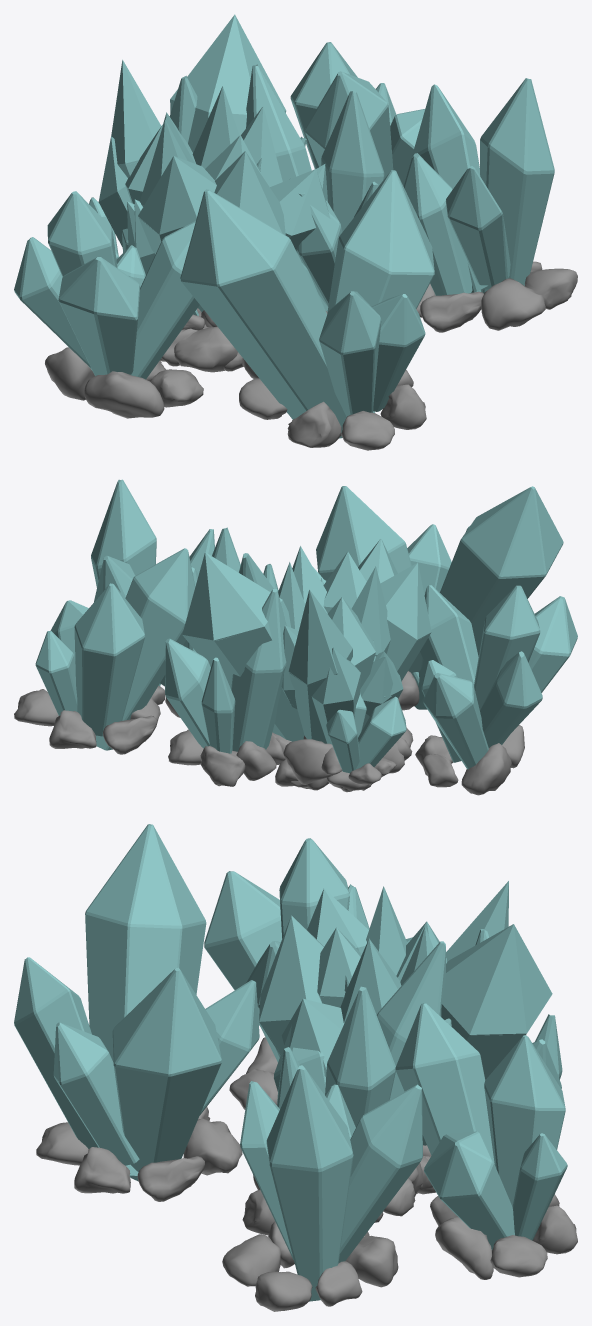
Rendered from crystals.gltf.
3 views of the same model, one above another, from view 1: azimuth 30°, elevation 25°; view 2: azimuth 150°, elevation 25°; view 3: azimuth 270°, elevation 25° (orthographic). The views are drawn at different scales.
Parts seen in each view (by area): view 1: crystal_2_bevel.001, crystal_3_bevel.001, crystal_4_bevel.001, crystal_5_bevel.001, crystal_2, crystal_1_bevel.001, rocks_2.001, rocks_4.001, rocks_3.001, crystal_2_bevel, crystal_5, crystal_1 (+9 smaller); view 2: crystal_4_bevel.001, crystal_1_bevel.001, crystal_2_bevel.001, crystal_6_bevel.001, crystal_2, crystal_3_bevel.001, crystal_5, crystal_1, rocks_1.001, crystal_8_bevel.001, rocks_4.001, rocks_6.001 (+15 smaller); view 3: crystal_2_bevel.001, crystal_1_bevel.001, crystal_3_bevel.001, crystal_5_bevel.001, crystal_4_bevel.001, crystal_2_bevel, rocks_2.001, crystal_2, rocks_3.001, rocks_1.001, crystal_4, crystal_1 (+10 smaller).
Boxes of the visible parts, x1=… form: crystal_2_bevel.001: x1=180, y1=170, x2=434, y2=438; crystal_3_bevel.001: x1=403, y1=78, x2=554, y2=295; crystal_4_bevel.001: x1=14, y1=191, x2=199, y2=379; crystal_5_bevel.001: x1=246, y1=64, x2=384, y2=311; crystal_2: x1=98, y1=14, x2=327, y2=316; crystal_1_bevel.001: x1=290, y1=42, x2=425, y2=185; rocks_2.001: x1=239, y1=370, x2=426, y2=450; rocks_4.001: x1=45, y1=347, x2=203, y2=418; rocks_3.001: x1=416, y1=261, x2=577, y2=332; crystal_2_bevel: x1=100, y1=19, x2=327, y2=315; crystal_5: x1=111, y1=59, x2=239, y2=177; crystal_1: x1=125, y1=124, x2=216, y2=248; crystal_4_bevel.001: x1=420, y1=585, x2=577, y2=769; crystal_1_bevel.001: x1=35, y1=548, x2=195, y2=750; crystal_2_bevel.001: x1=316, y1=486, x2=563, y2=709; crystal_6_bevel.001: x1=165, y1=589, x2=286, y2=753; crystal_2: x1=182, y1=538, x2=403, y2=744; crystal_3_bevel.001: x1=91, y1=479, x2=214, y2=686; crystal_5: x1=278, y1=562, x2=352, y2=740; crystal_1: x1=328, y1=562, x2=431, y2=688; rocks_1.001: x1=14, y1=689, x2=160, y2=754; crystal_8_bevel.001: x1=326, y1=693, x2=406, y2=773; rocks_4.001: x1=415, y1=725, x2=524, y2=795; rocks_6.001: x1=168, y1=729, x2=285, y2=786; crystal_2_bevel.001: x1=14, y1=824, x2=259, y2=1181; crystal_1_bevel.001: x1=395, y1=1003, x2=567, y2=1249; crystal_3_bevel.001: x1=240, y1=1065, x2=422, y2=1301; crystal_5_bevel.001: x1=274, y1=941, x2=445, y2=1126; crystal_4_bevel.001: x1=204, y1=838, x2=412, y2=1062; crystal_2_bevel: x1=259, y1=920, x2=551, y2=1145; rocks_2.001: x1=36, y1=1106, x2=242, y2=1201; crystal_2: x1=259, y1=915, x2=552, y2=1145; rocks_3.001: x1=222, y1=1221, x2=398, y2=1311; rocks_1.001: x1=430, y1=1194, x2=577, y2=1279; crystal_4: x1=281, y1=927, x2=361, y2=1076; crystal_1: x1=307, y1=888, x2=446, y2=981.
Bounding box in the file's own units: 16.67 × 8.27 × 14.38.
